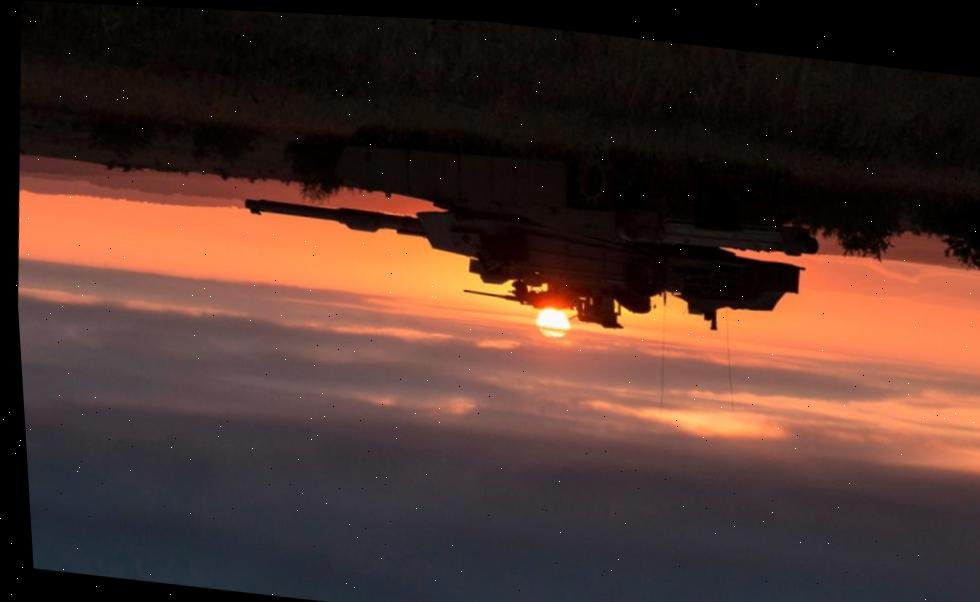tank: (229, 100, 832, 354)
